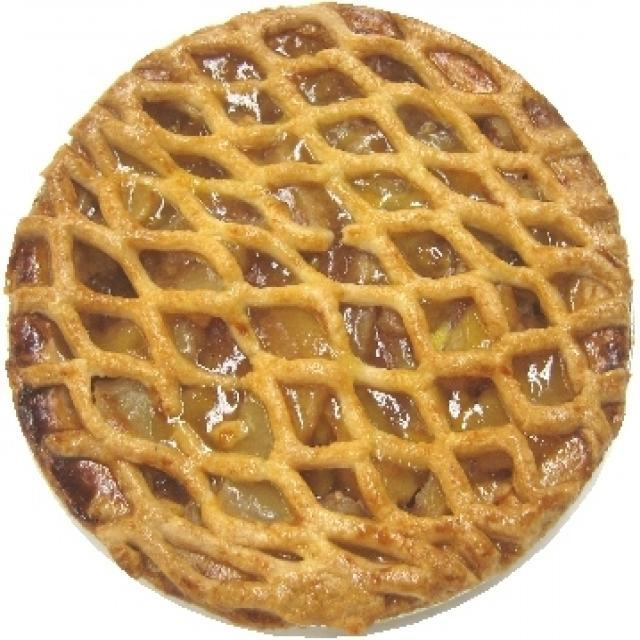Apple: (13, 2, 639, 629)
